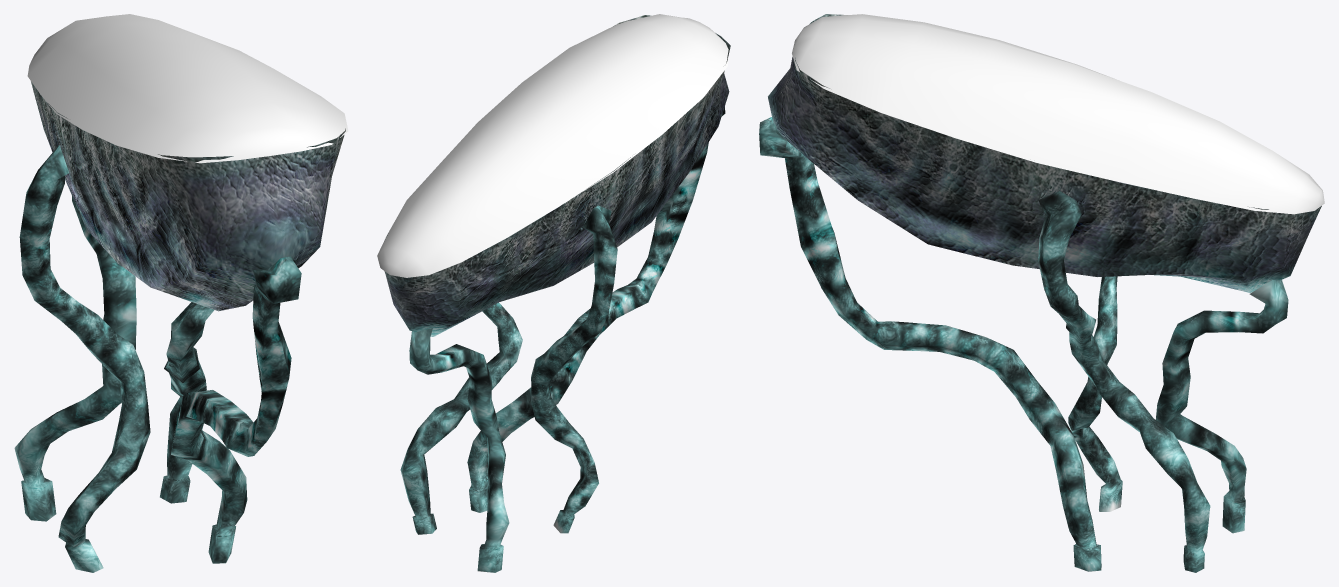
File: Cocoon.fbx
3 views of the same model, side by side, from view 1: azimuth 30°, elevation 25°; view 2: azimuth 150°, elevation 25°; view 3: azimuth 270°, elevation 25° (orthographic). The views are drawn at different scales.
Parts seen in each view (by area): view 1: Cocoons_Cocoon_158, Cocoons_Lid_278; view 2: Cocoons_Cocoon_158, Cocoons_Lid_278; view 3: Cocoons_Cocoon_158, Cocoons_Lid_278.
Part boxes in pixels (x1=…): Cocoons_Cocoon_158: x1=14, y1=81, x2=345, y2=572; Cocoons_Lid_278: x1=27, y1=14, x2=348, y2=163; Cocoons_Cocoon_158: x1=384, y1=15, x2=730, y2=572; Cocoons_Lid_278: x1=377, y1=14, x2=728, y2=277; Cocoons_Cocoon_158: x1=759, y1=14, x2=1321, y2=572; Cocoons_Lid_278: x1=792, y1=14, x2=1324, y2=214.
Size of what is drawn, in the model's own units: 246 by 516 by 498.
